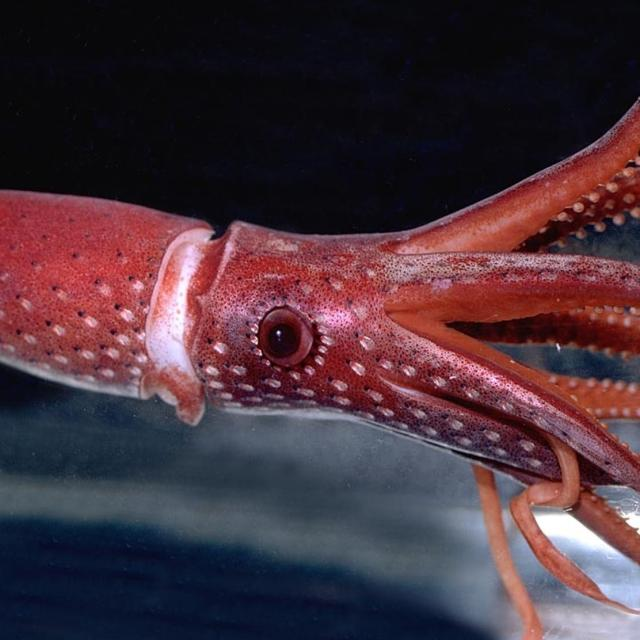SQUID: (0, 84, 640, 529)
